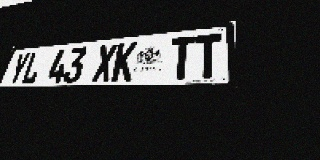3: (62, 47, 88, 83)
4: (46, 48, 71, 84)
K: (111, 42, 138, 82)
L: (20, 51, 45, 84)
T: (194, 33, 221, 79), (168, 36, 195, 80)
X: (91, 44, 118, 82)
Y: (7, 52, 31, 85)
